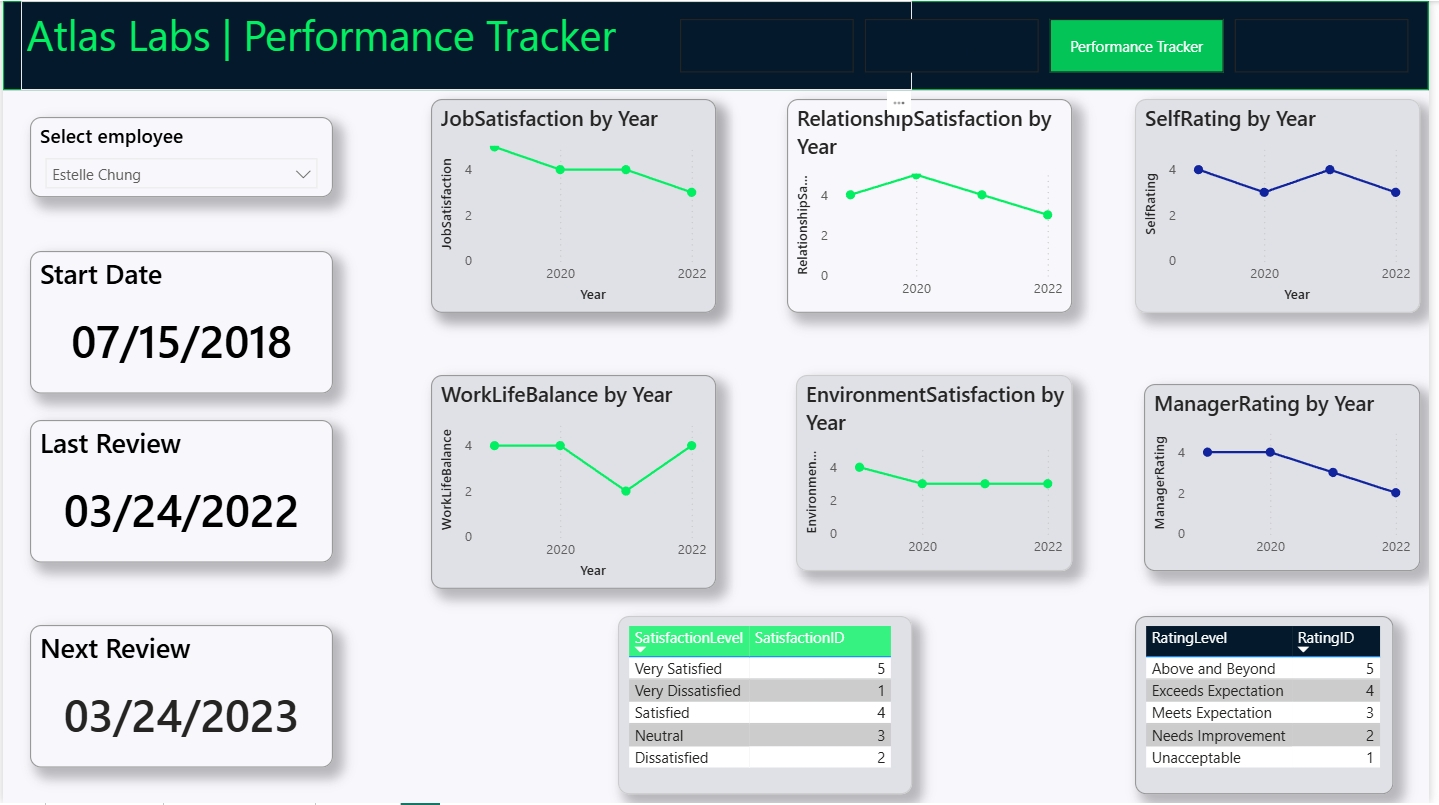

The dashboard page shown, as its layout file describes it:
{"tool":"powerbi","page":{"name":"Performance Tracker","canvas":[1280,720],"ordinal":2},"visuals":[{"type":"slicer","title":"Select employee","fields":{"Values":["DimEmployee.FullName"]},"box":[24,104,272,72],"z":0},{"type":"card","title":"Start Date","fields":{"Values":["Min(DimEmployee.HireDate)"]},"box":[24,224,272,128],"z":1000},{"type":"card","title":"Last Review","fields":{"Values":["Table_Measures.LastReviewDate"]},"box":[24,376,272,128],"z":2000},{"type":"card","title":"Next Review","fields":{"Values":["Table_Measures.NextReviewDate"]},"box":[24,560,272,128],"z":3000},{"type":"lineChart","fields":{"Y":["Table_Measures.JobSatisfaction"],"Category":["DimDate.Year"]},"box":[384,88,256,192],"z":4000},{"type":"lineChart","fields":{"Y":["Table_Measures.RelationshipSatisfaction"],"Category":["DimDate.Year"]},"box":[704,88,256,192],"z":5000},{"type":"lineChart","fields":{"Y":["Table_Measures.EnvironmentSatisfaction"],"Category":["DimDate.Year"]},"box":[712,336,248,176],"z":6000},{"type":"lineChart","fields":{"Y":["Table_Measures.WorkLifeBalance"],"Category":["DimDate.Year"]},"box":[384,336,256,192],"z":7000},{"type":"lineChart","fields":{"Y":["Table_Measures.SelfRating"],"Category":["DimDate.Year"]},"box":[1016,88,256,192],"z":8000},{"type":"lineChart","fields":{"Y":["Table_Measures.ManagerRating"],"Category":["DimDate.Year"]},"box":[1024,344,248,168],"z":9000},{"type":"shape","box":[0,0,1280,80],"z":10000},{"type":"textbox","box":[16,0,800,80],"z":11000},{"type":"tableEx","fields":{"Values":["DimSatisfiedLevel.SatisfactionLevel","DimSatisfiedLevel.SatisfactionID"]},"box":[552,552,264,160],"z":12000},{"type":"tableEx","fields":{"Values":["DimRatingLevel.RatingLevel","DimRatingLevel.RatingID"]},"box":[1016,552,232,160],"z":13000},{"type":"pageNavigator","box":[608,16,656,48],"z":14000}]}

Visuals, with their boxes in screenshot pixels (x1, y1, x2, y2), scaled from the page's 1280x720 canvas onto the 1439x805 screenshot:
"Select employee" slicer: bbox=[27, 116, 333, 197]
"Start Date" card: bbox=[27, 250, 333, 394]
"Last Review" card: bbox=[27, 420, 333, 564]
"Next Review" card: bbox=[27, 626, 333, 769]
lineChart - Table_Measures.JobSatisfaction x DimDate.Year: bbox=[432, 98, 720, 313]
lineChart - Table_Measures.RelationshipSatisfaction x DimDate.Year: bbox=[791, 98, 1079, 313]
lineChart - Table_Measures.EnvironmentSatisfaction x DimDate.Year: bbox=[800, 376, 1079, 572]
lineChart - Table_Measures.WorkLifeBalance x DimDate.Year: bbox=[432, 376, 720, 590]
lineChart - Table_Measures.SelfRating x DimDate.Year: bbox=[1142, 98, 1430, 313]
lineChart - Table_Measures.ManagerRating x DimDate.Year: bbox=[1151, 385, 1430, 572]
shape: bbox=[0, 0, 1438, 89]
textbox: bbox=[18, 0, 917, 89]
tableEx - DimSatisfiedLevel.SatisfactionLevel x DimSatisfiedLevel.SatisfactionID: bbox=[621, 617, 917, 796]
tableEx - DimRatingLevel.RatingLevel x DimRatingLevel.RatingID: bbox=[1142, 617, 1403, 796]
pageNavigator: bbox=[684, 18, 1421, 72]
